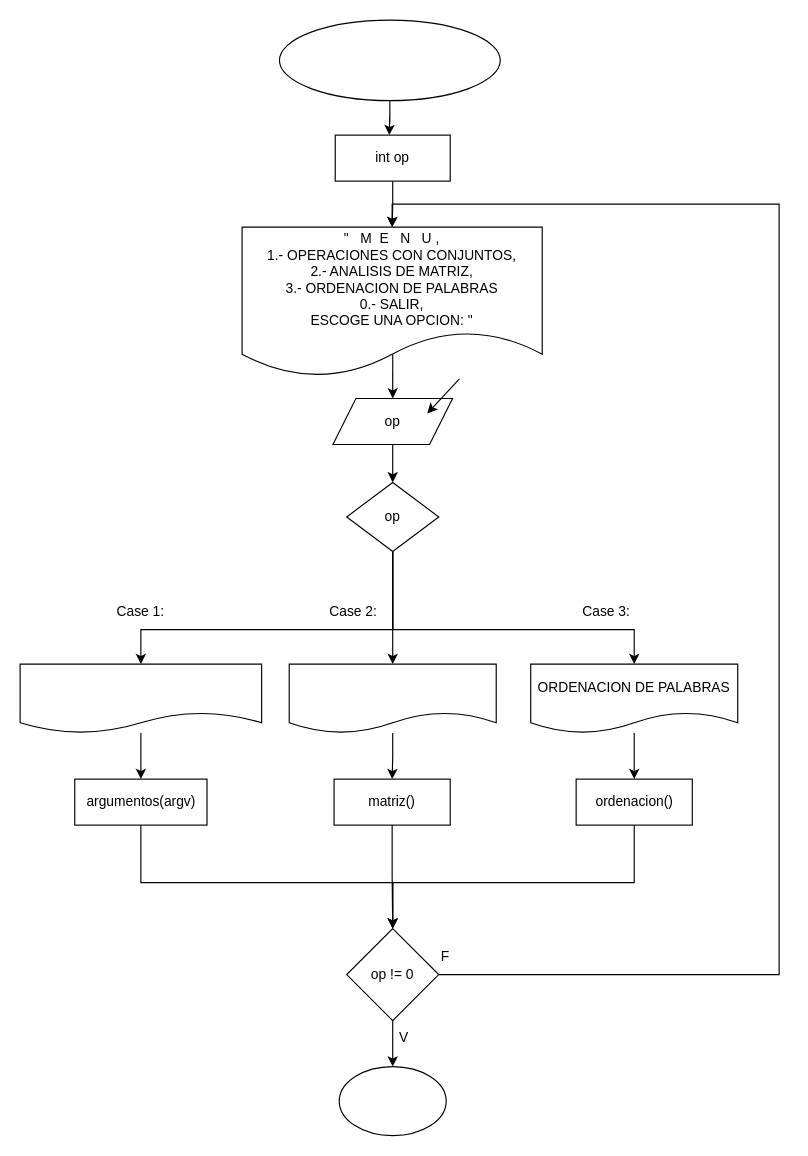
Image size: 808x1156. Some labels were removed from this diagram. Each missing label, with the box of its shape:
ANALISIS DE MATRIZ: (288, 663, 496, 733)
int main(int argc, char *argv[]): (278, 19, 500, 101)
OPERACIONES CON CONJUNTOS: (19, 663, 262, 733)
return 0: (338, 1065, 446, 1136)
